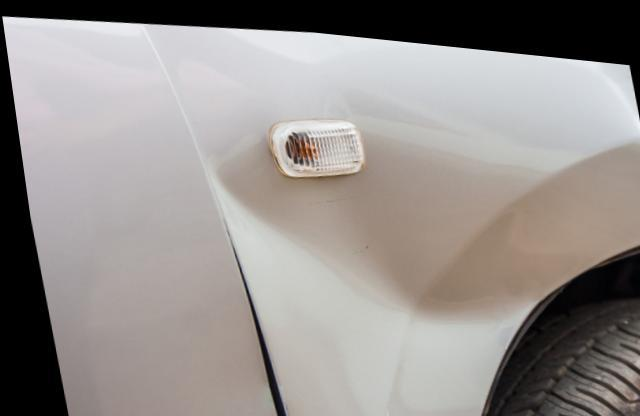dent: (206, 130, 567, 416), (593, 48, 640, 135)
